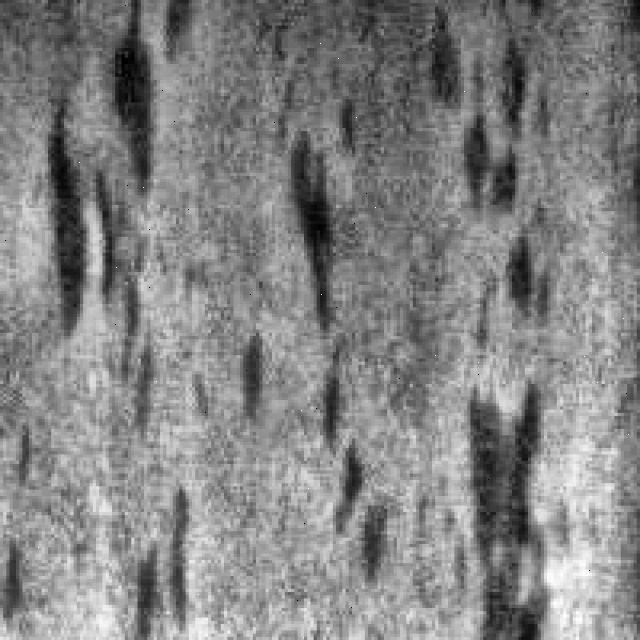Patches: (444, 9, 586, 630), (288, 118, 403, 580), (47, 0, 166, 394), (134, 477, 202, 630), (236, 317, 278, 413)
